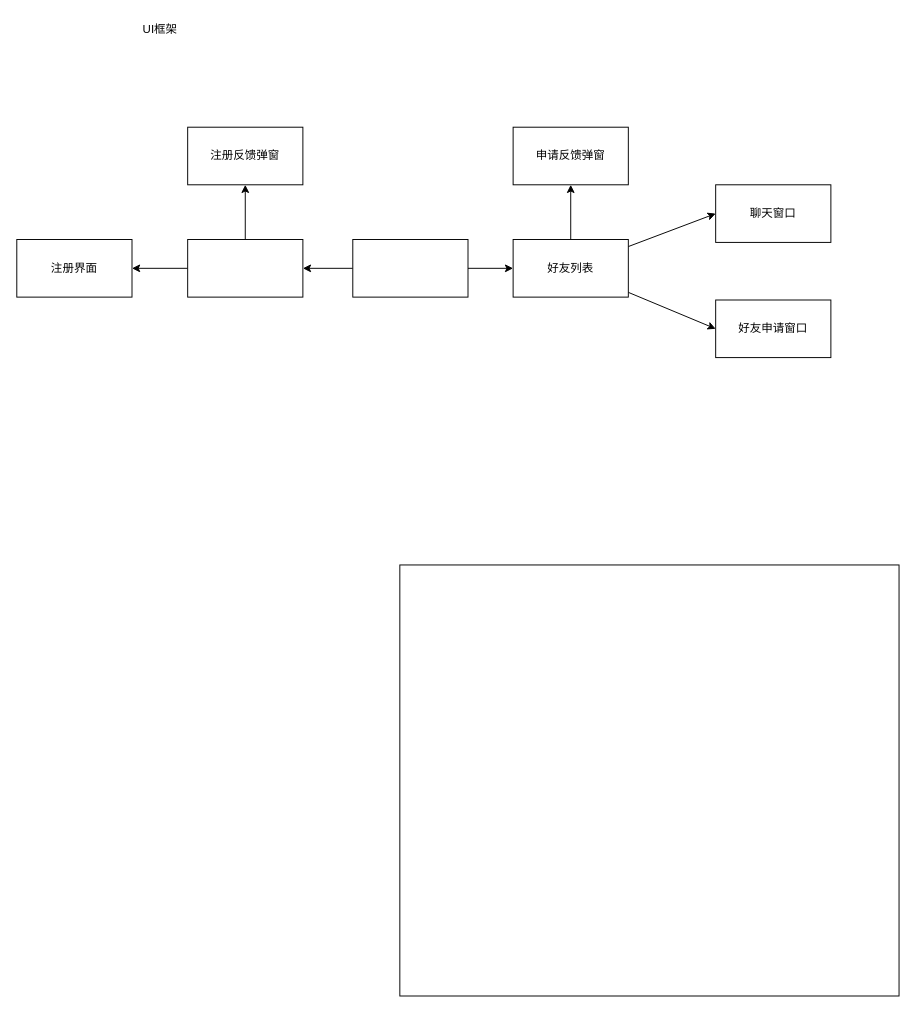
Image size: 916x1013. Some labels were removed from this diagram. Each missing label, with the centre of its shape:
状态切换机: point (410, 268)
登录界面: point (245, 268)
